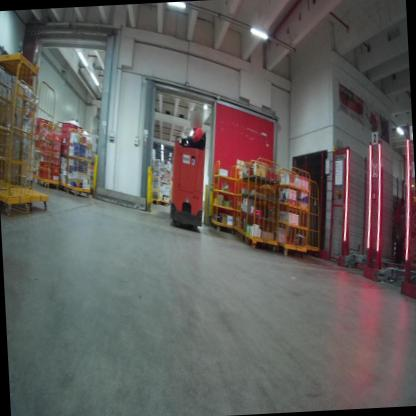pallet_truck: (157, 127, 214, 244)
